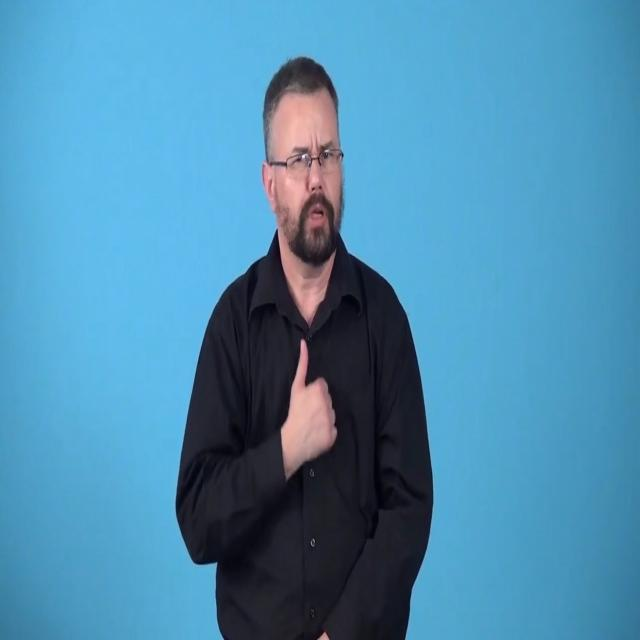repeat: (270, 328, 348, 499)
